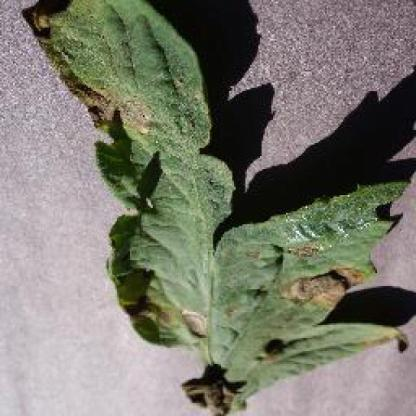Tomato_Blight: (34, 0, 408, 413)
